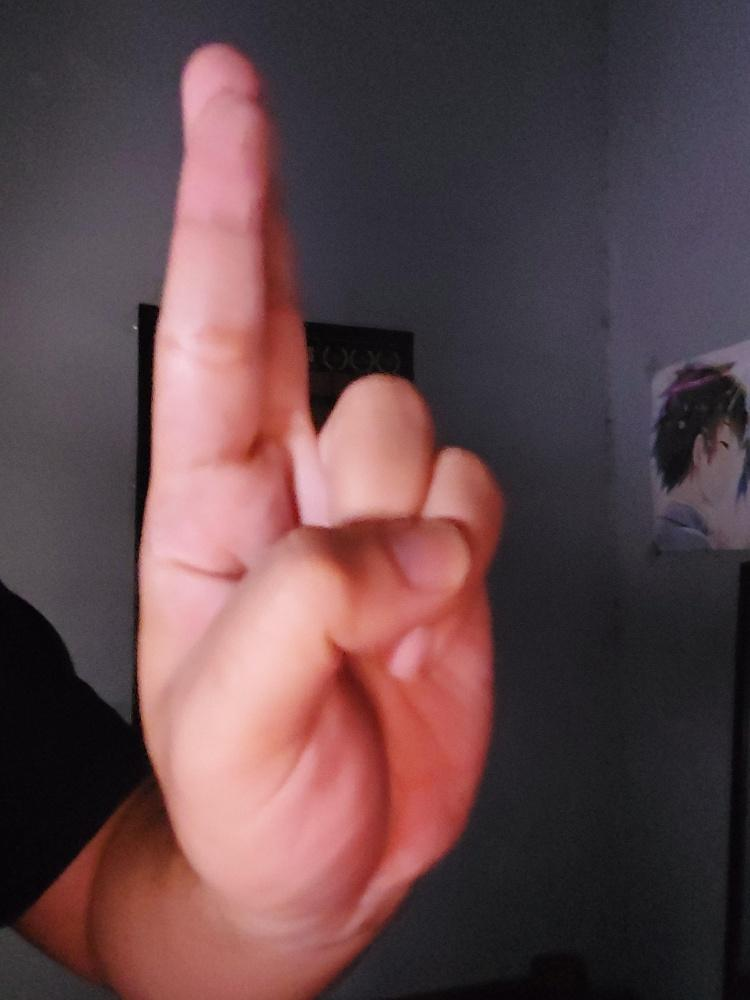r: (137, 28, 496, 941)
